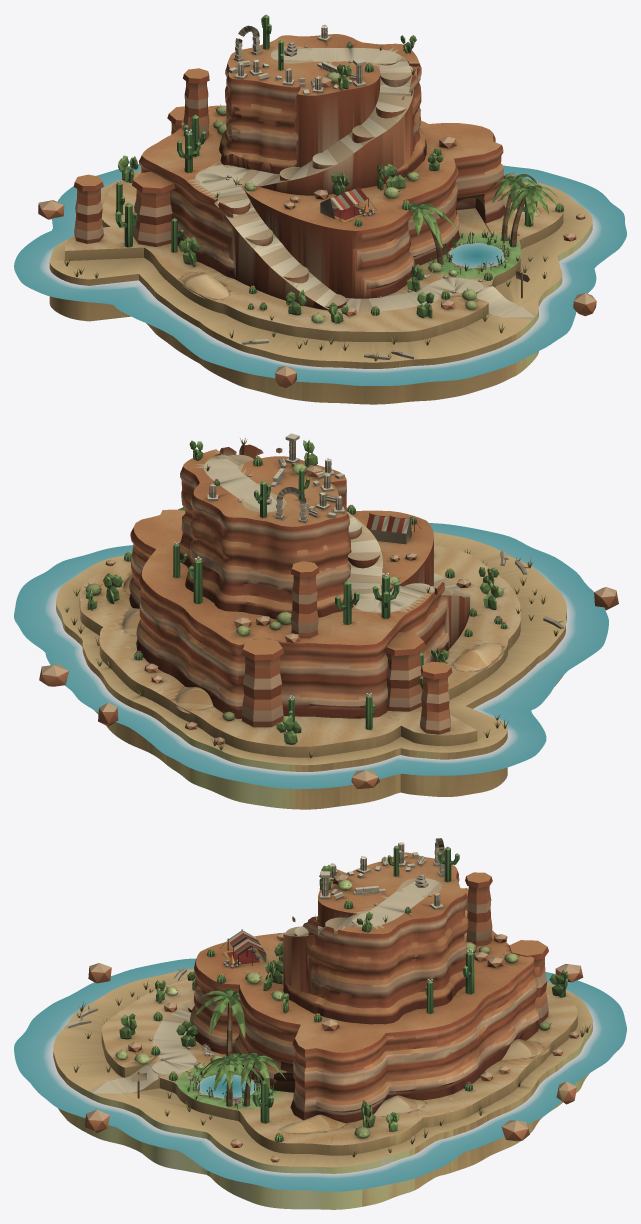
The model's file is DesertIsland.glb.
3 views of the same model, one above another, from view 1: azimuth 30°, elevation 25°; view 2: azimuth 150°, elevation 25°; view 3: azimuth 270°, elevation 25° (orthographic). The views are drawn at different scales.
Parts seen in each view (by area): view 1: Lit, Unlit, Soft; view 2: Lit, Unlit, Soft; view 3: Lit, Unlit, Soft.
Boxes of the visible parts, left/top/right/bottom form: Lit: left=38, top=14, right=596, bottom=404; Unlit: left=14, top=164, right=626, bottom=385; Soft: left=181, top=72, right=539, bottom=323; Lit: left=39, top=433, right=618, bottom=809; Unlit: left=14, top=523, right=608, bottom=788; Soft: left=85, top=463, right=503, bottom=721; Lit: left=53, top=838, right=592, bottom=1209; Unlit: left=14, top=954, right=626, bottom=1191; Soft: left=115, top=879, right=550, bottom=1138.
Size of the model in its own units: 6.45 by 2.79 by 6.39.
